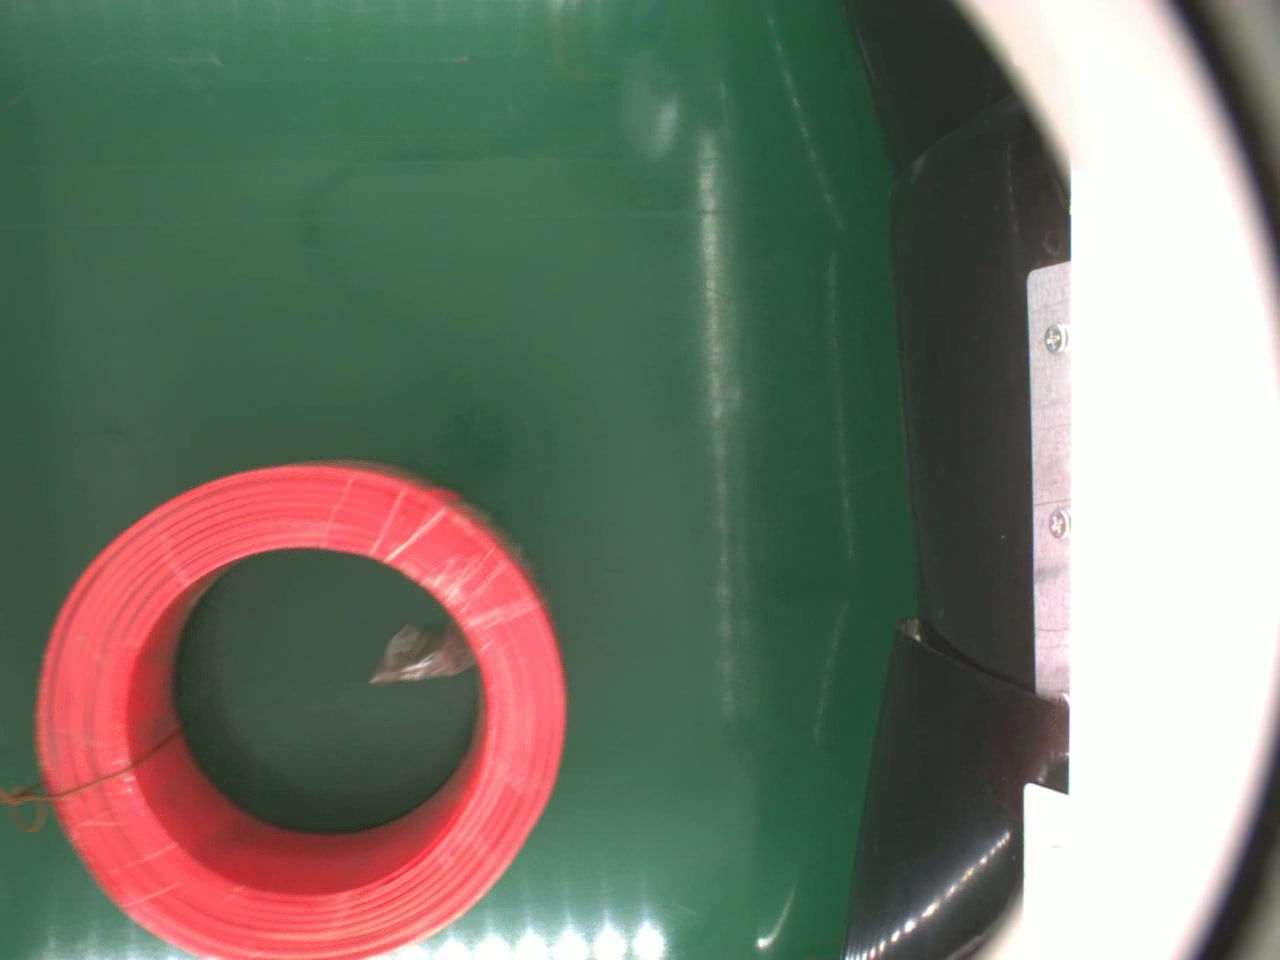red: (35, 456, 566, 960)
